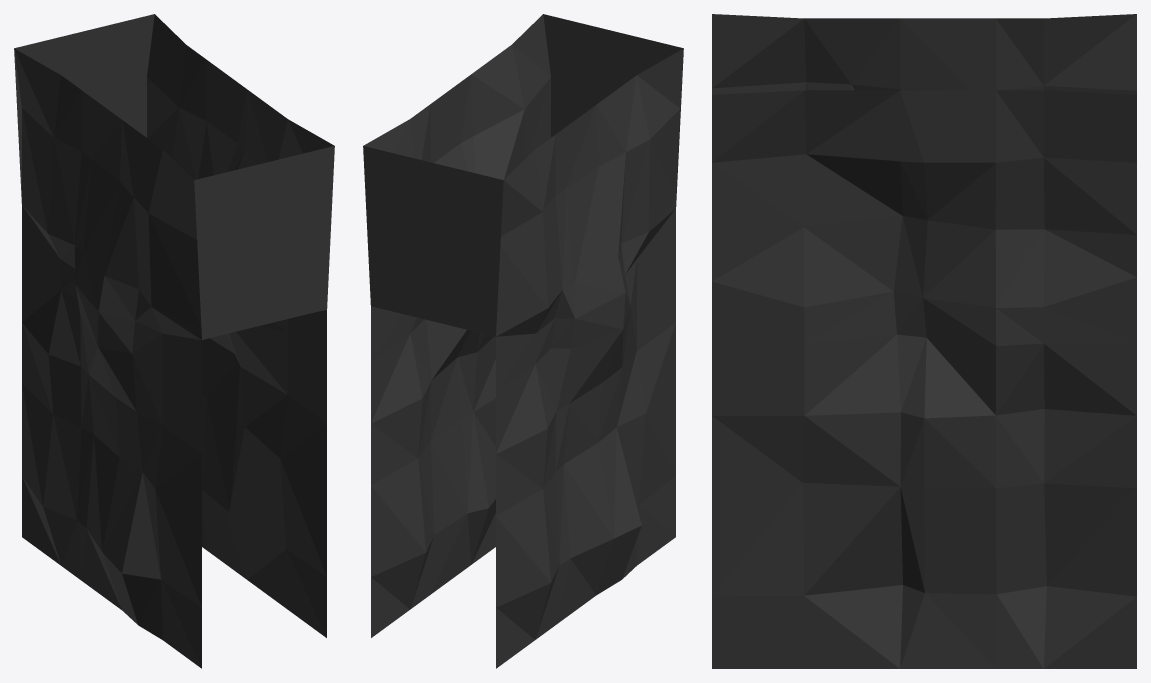
The model's file is Cave_8B_LOD_1.fbx.
3 views of the same model, side by side, from view 1: azimuth 30°, elevation 25°; view 2: azimuth 150°, elevation 25°; view 3: azimuth 270°, elevation 25° (orthographic). The views are drawn at different scales.
Parts seen in each view (by area): view 1: polySurface8; view 2: polySurface8; view 3: polySurface8.
Part boxes in pixels (x1,y1,x2,y2): polySurface8: [14, 14, 334, 668]; polySurface8: [363, 14, 683, 668]; polySurface8: [712, 14, 1136, 668].
Bounding box in the file's own units: 10.19 × 30 × 19.97.
